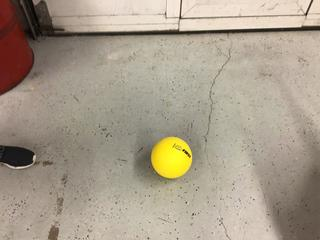power_cell: (148, 135, 195, 183)
